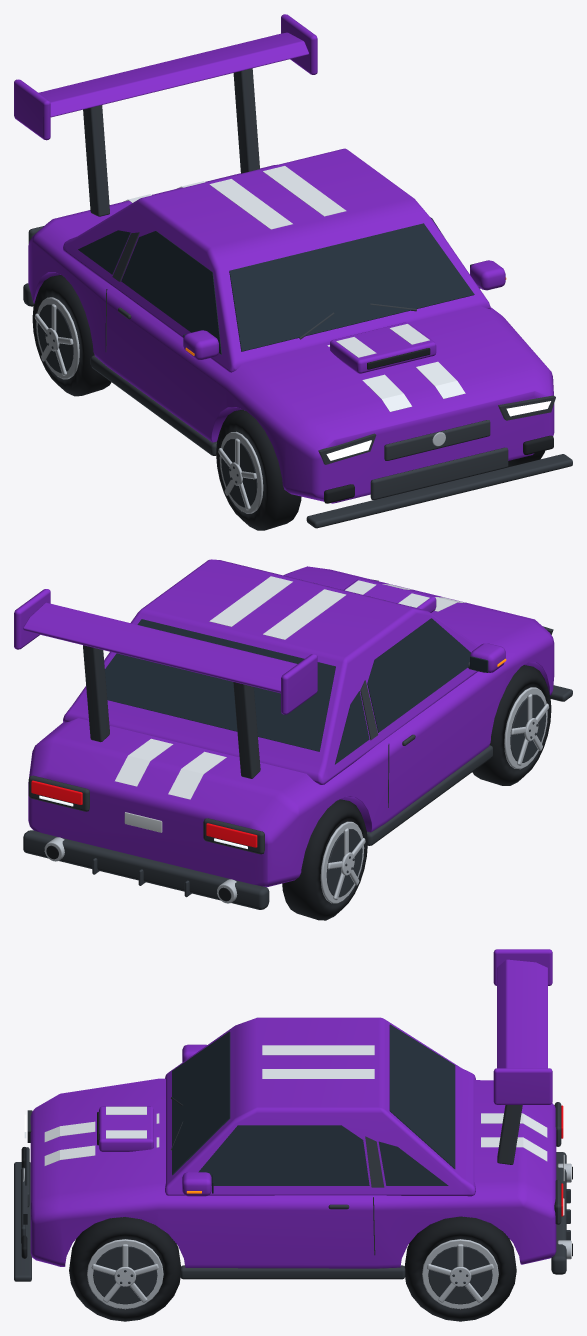
The model's file is NPC_SportCoupe.fbx.
3 views of the same model, one above another, from view 1: azimuth 30°, elevation 25°; view 2: azimuth 150°, elevation 25°; view 3: azimuth 270°, elevation 25° (orthographic). The views are drawn at different scales.
Visible parts, largest first — view 1: NPC_SportCoupe; view 2: NPC_SportCoupe; view 3: NPC_SportCoupe.
Boxes of the visible parts, box(x1,y1,x2,y2) form: NPC_SportCoupe: box(14, 14, 572, 530); NPC_SportCoupe: box(14, 559, 572, 920); NPC_SportCoupe: box(14, 949, 572, 1321).
Size of the model in its own units: 254 by 215 by 430.
